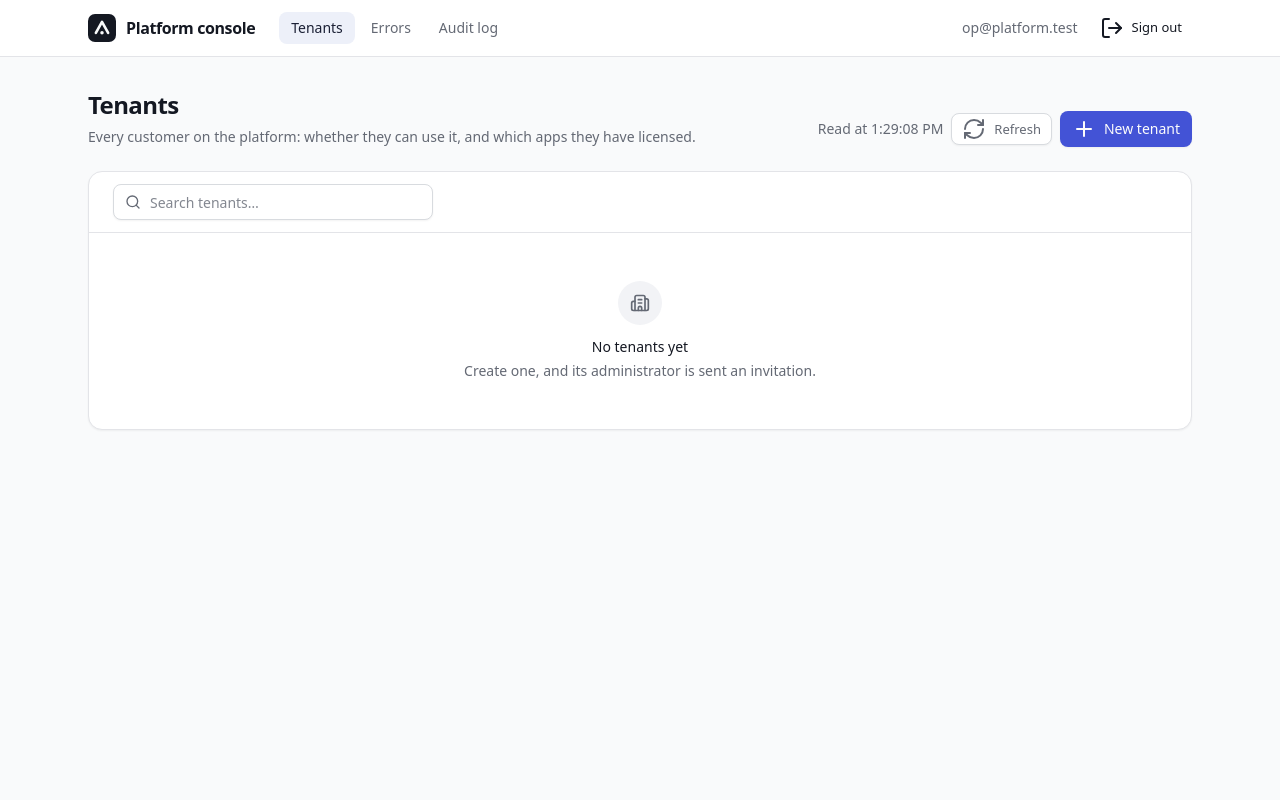
Test: signed in › signs out on the server and returns to sign-in
Click the button "Sign out" at (1141, 28), box left=1090, top=12, right=1192, bottom=44
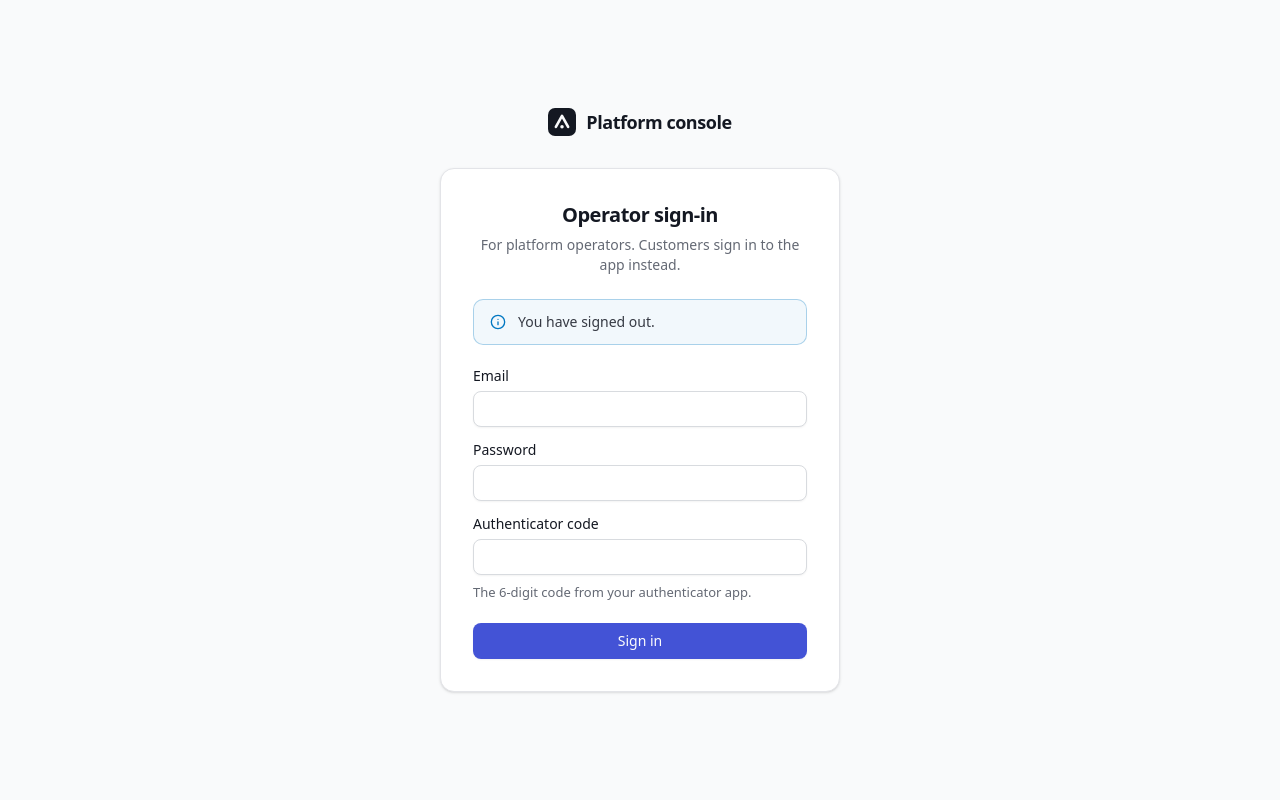
Expected: the text "You have signed out." is shown, left=518, top=312, right=655, bottom=332
